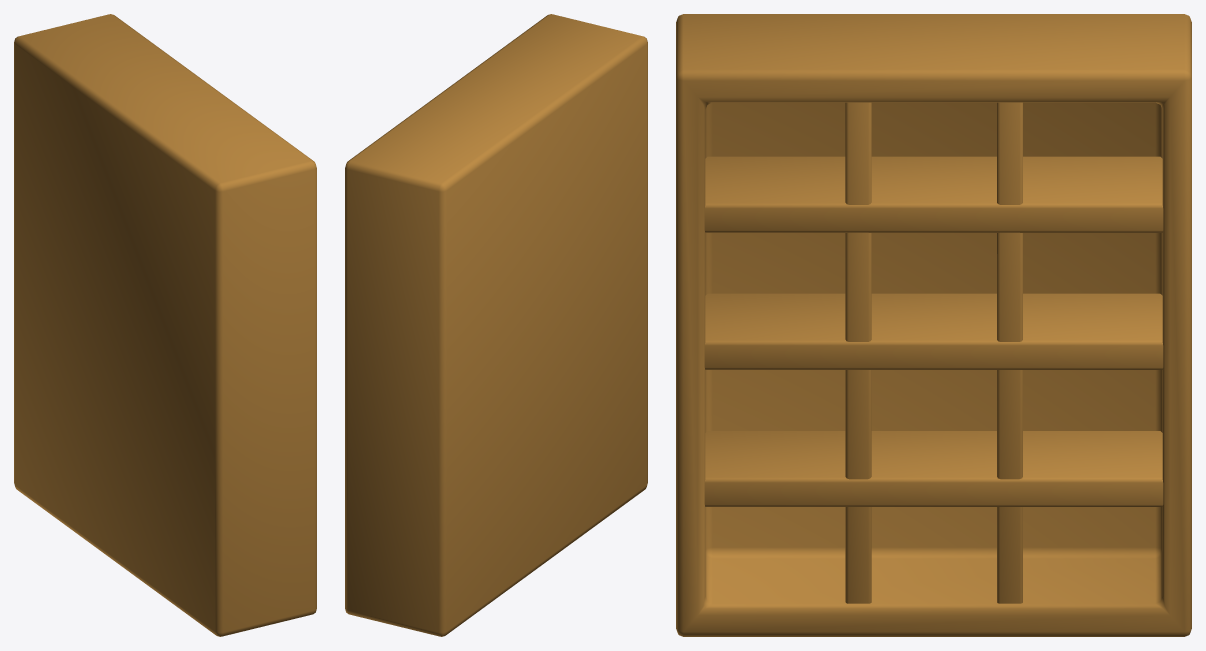
The model's file is Bookcase3.fbx.
3 views of the same model, side by side, from view 1: azimuth 30°, elevation 25°; view 2: azimuth 150°, elevation 25°; view 3: azimuth 270°, elevation 25° (orthographic). The views are drawn at different scales.
Visible parts, largest first — view 1: Bookcase3; view 2: Bookcase3; view 3: Bookcase3.
Part boxes in pixels (x1,y1,x2,y2): Bookcase3: [14, 14, 316, 636]; Bookcase3: [345, 14, 647, 636]; Bookcase3: [676, 14, 1191, 636].
Bounding box in the file's own units: 0.7447 × 2.63 × 3.19.
